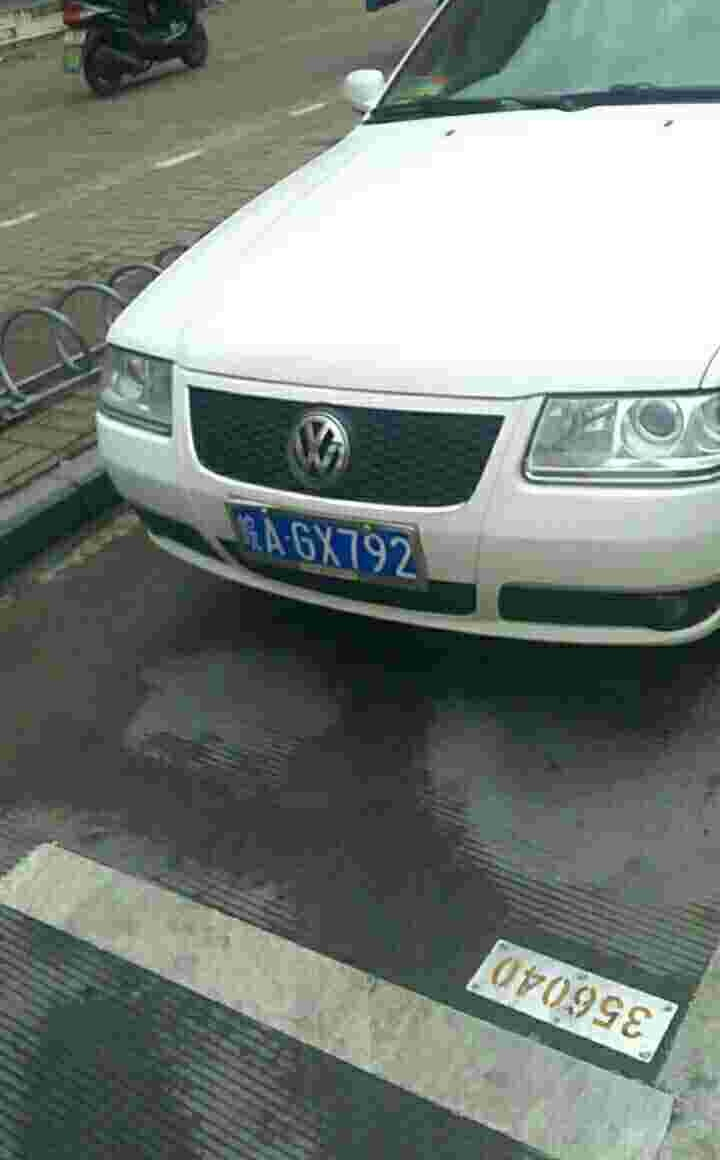license_plate: (222, 508, 423, 583)
